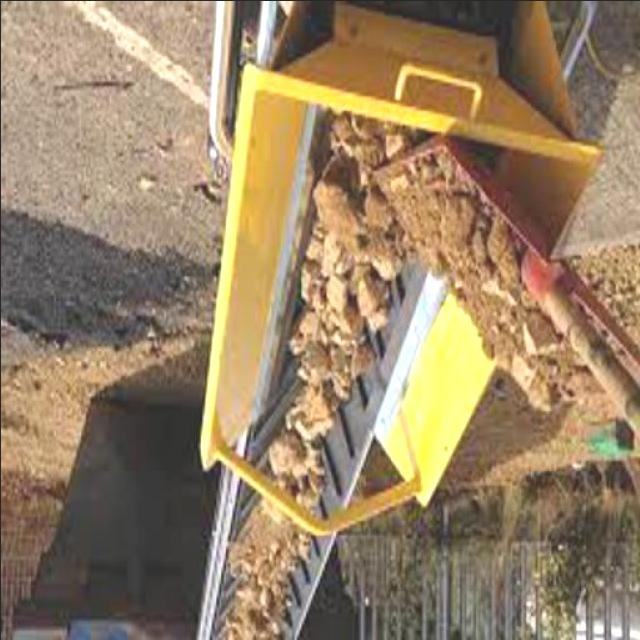conveyor: (204, 97, 441, 639)
